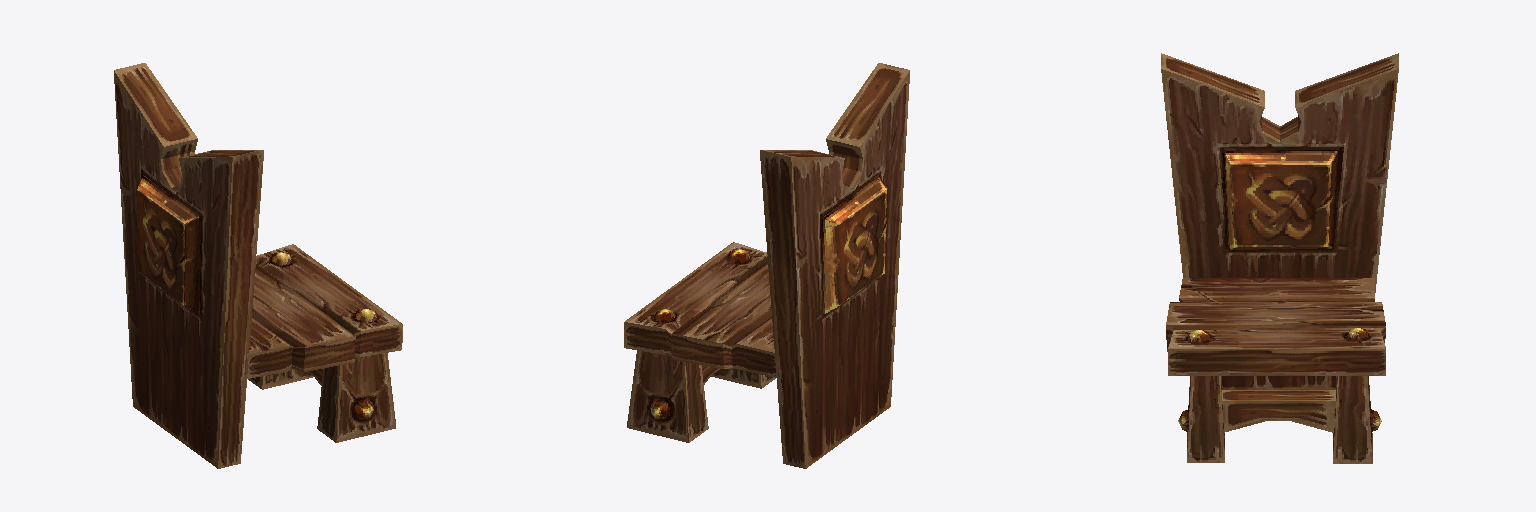
3 views of the same model, side by side, from view 1: azimuth 30°, elevation 25°; view 2: azimuth 150°, elevation 25°; view 3: azimuth 270°, elevation 25° (orthographic).
Parts seen in each view (by area): view 1: generalmedchair01.m2; view 2: generalmedchair01.m2; view 3: generalmedchair01.m2.
Part boxes in pixels (left/top/right/bottom): generalmedchair01.m2: left=114, top=63, right=402, bottom=468; generalmedchair01.m2: left=624, top=63, right=909, bottom=468; generalmedchair01.m2: left=1161, top=53, right=1398, bottom=463.
Size of the model in its own units: 1.08 by 1.76 by 1.17.
Materials: 1 (1 with a texture image).